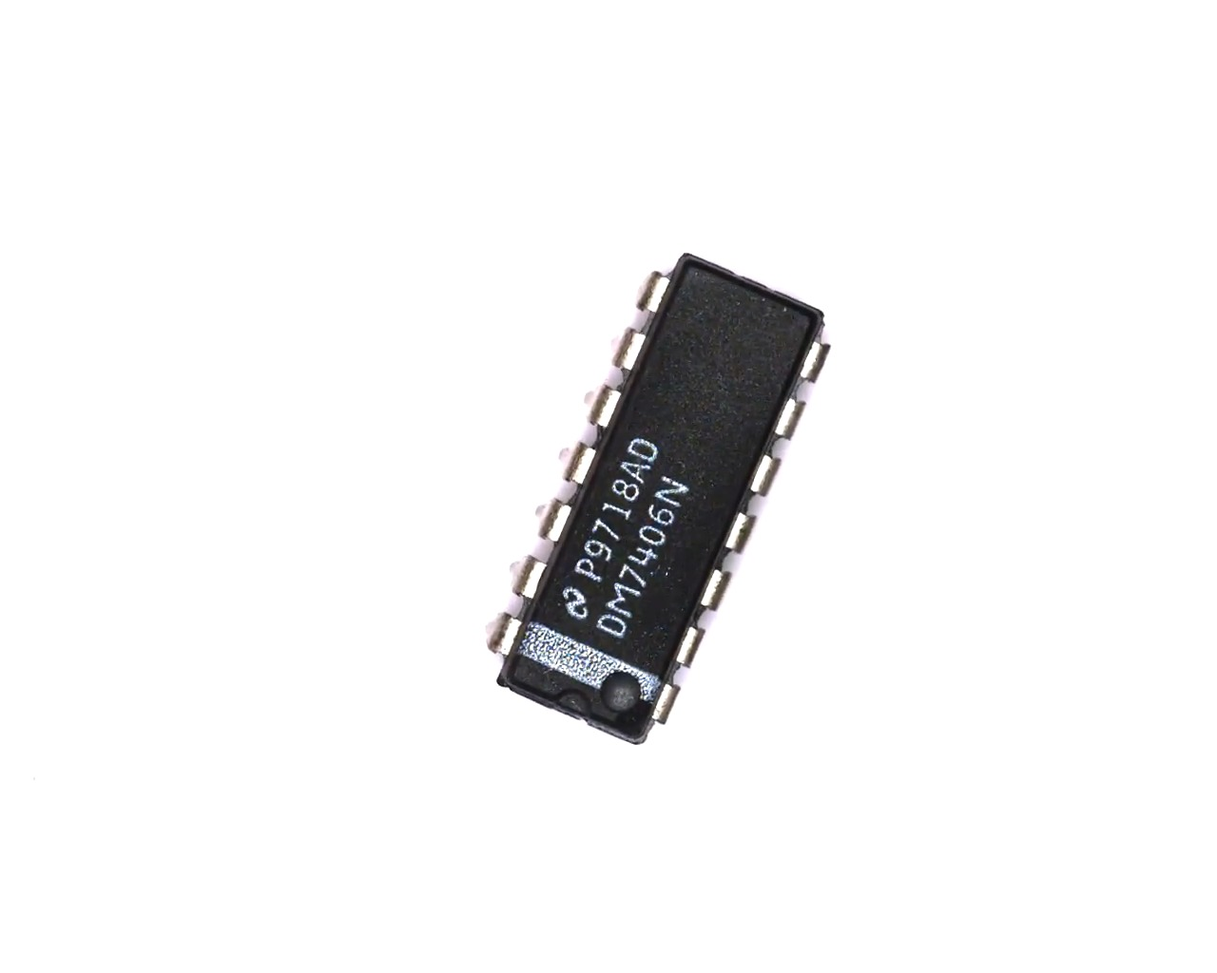IC: (451, 225, 863, 774)
notch: (547, 685, 594, 725)
